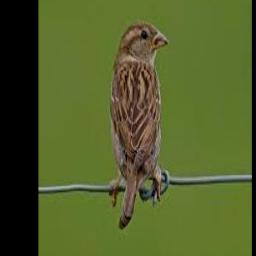Sparrow: (111, 20, 169, 228)
